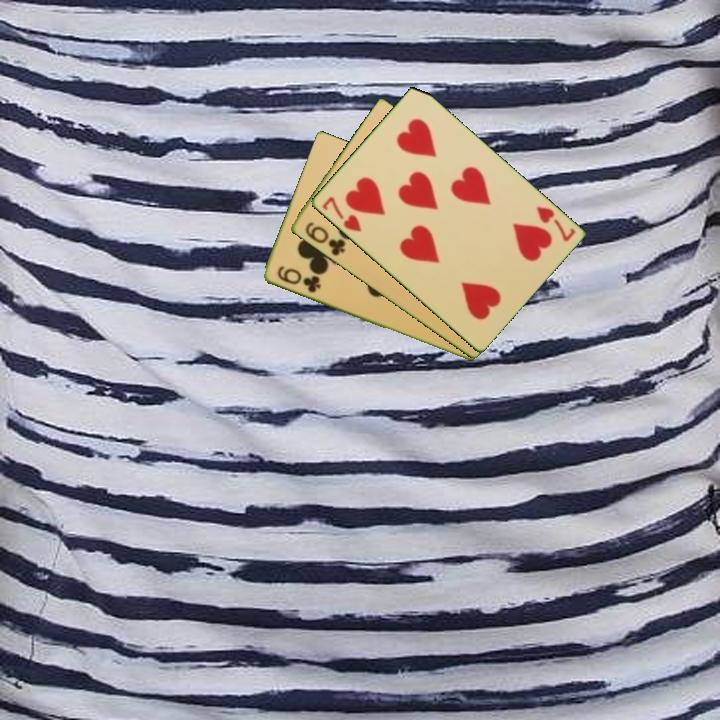6c: (301, 218, 348, 259), (273, 262, 323, 296)
7h: (532, 202, 578, 245), (318, 193, 364, 235)
